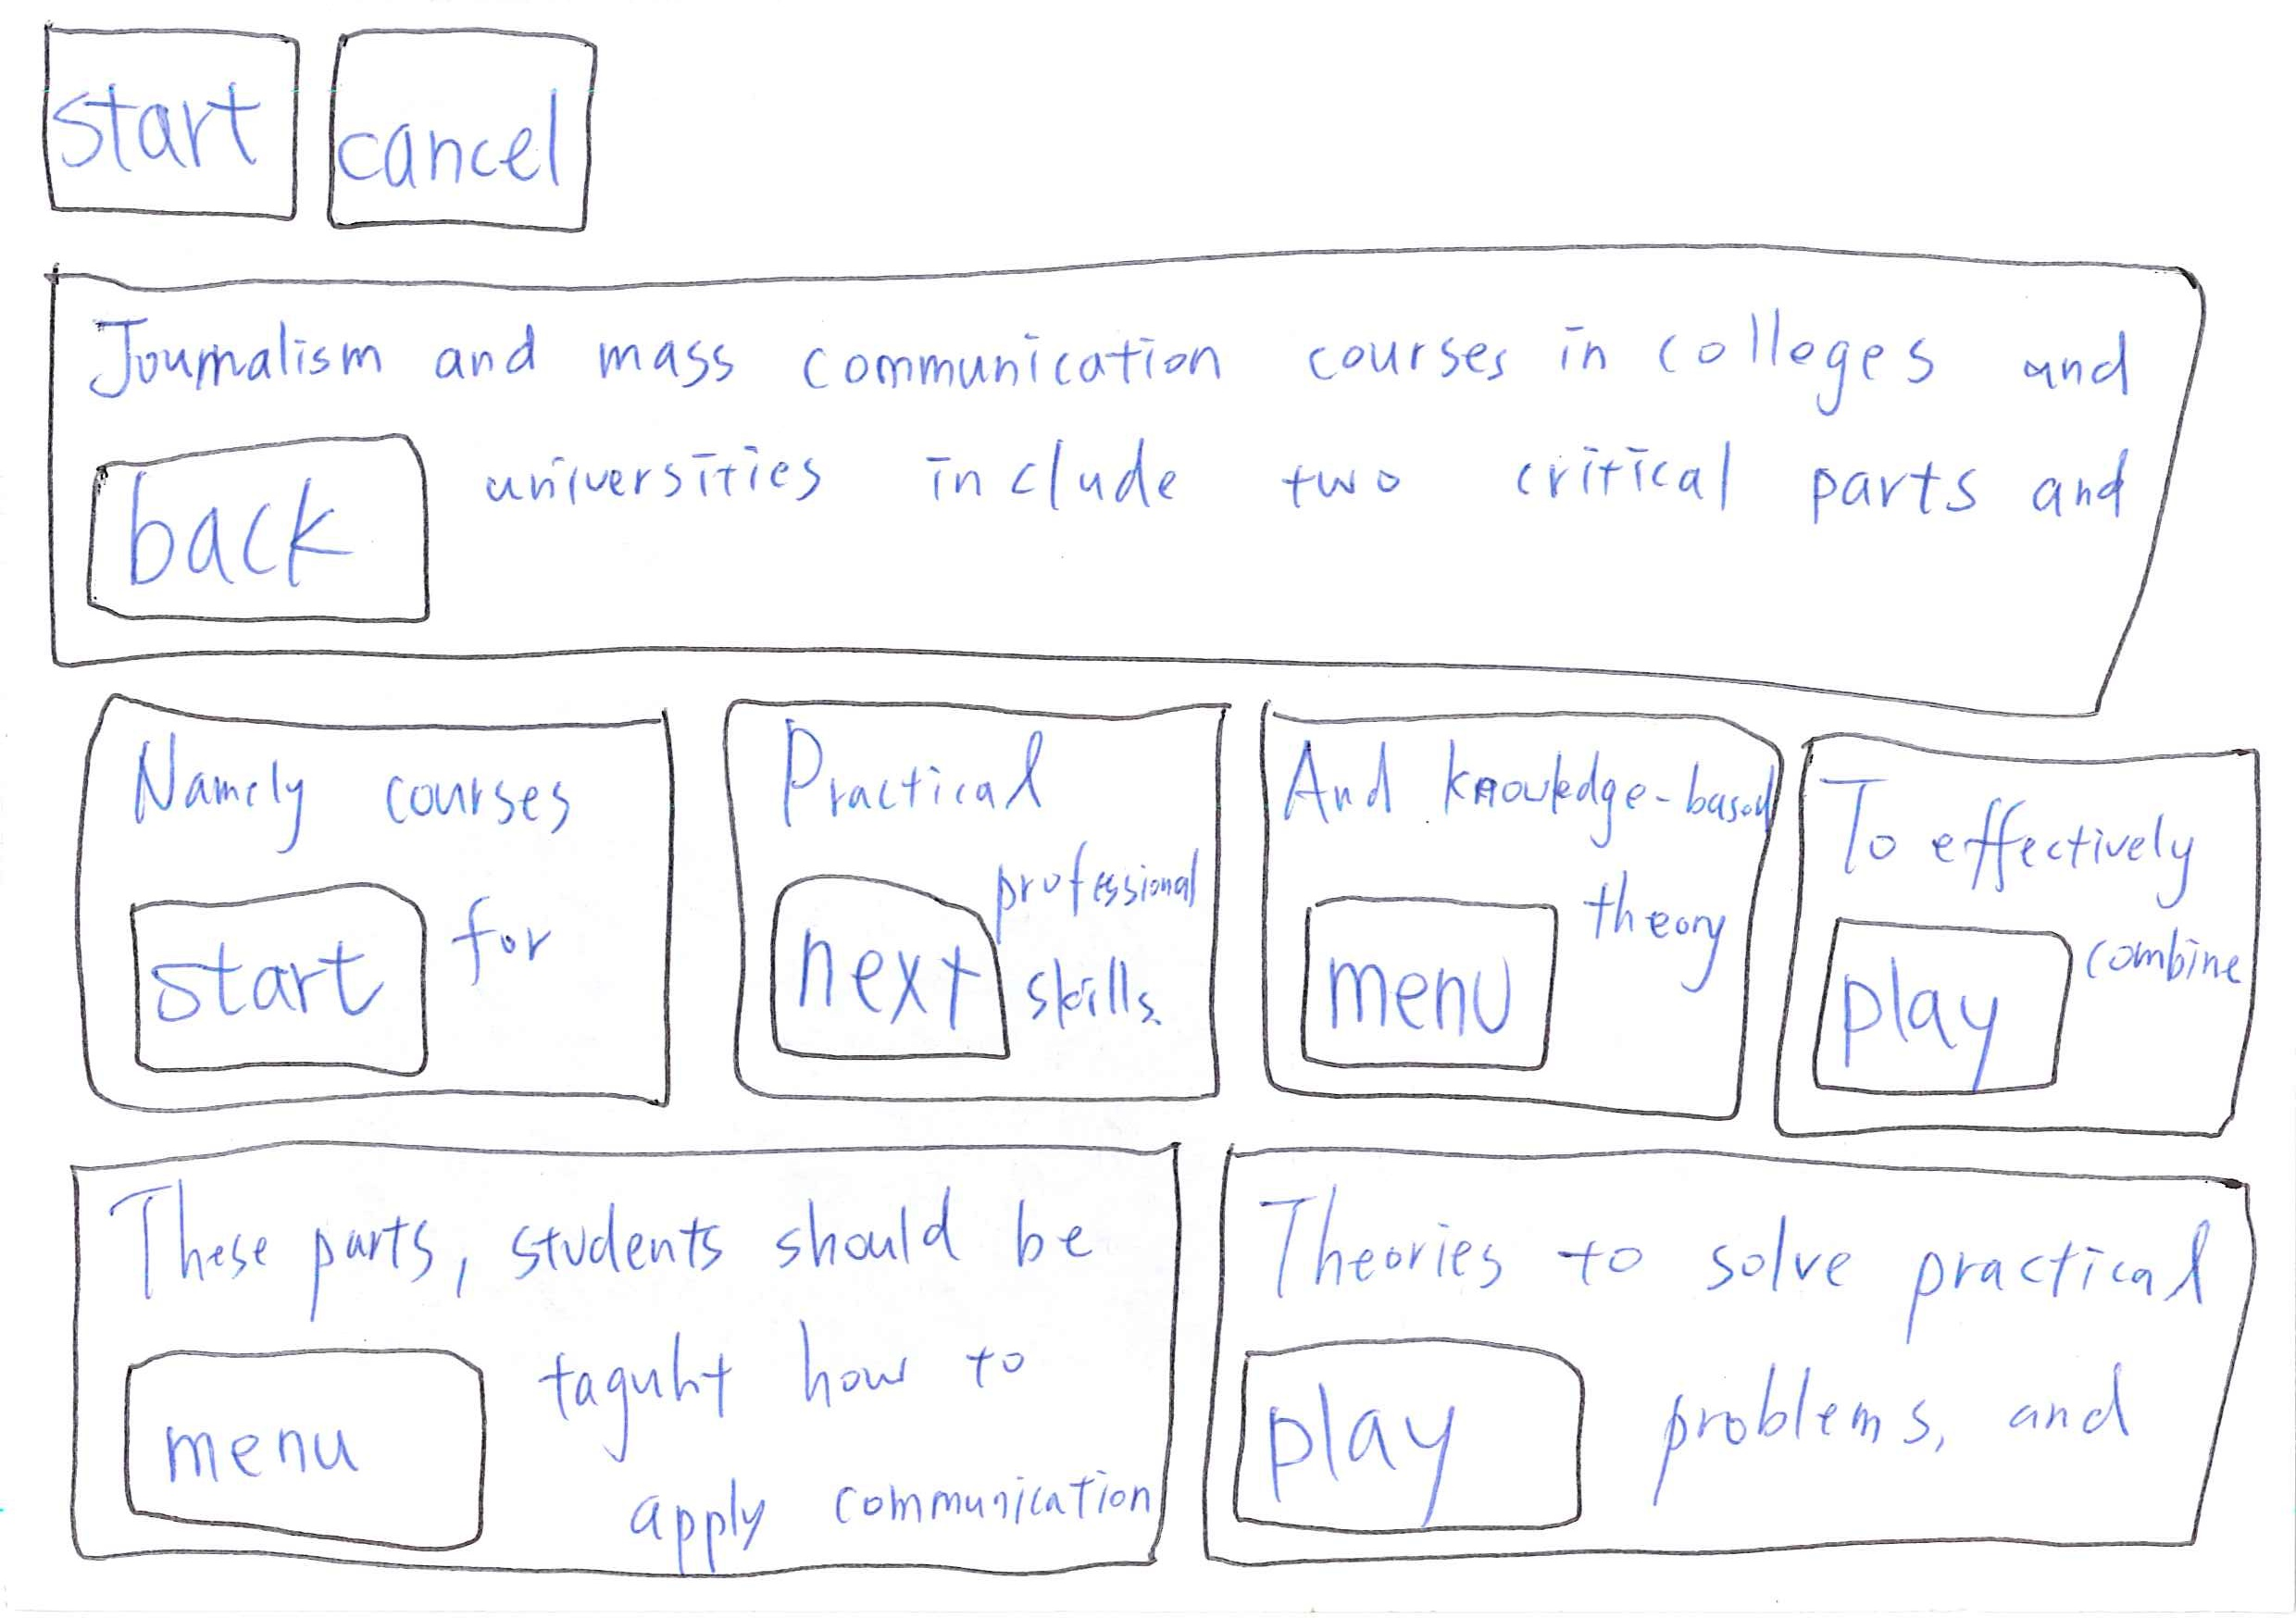back: (67, 426, 455, 651)
cancel: (317, 12, 618, 261)
double: (19, 1119, 1194, 1609), (1200, 1122, 2285, 1618)
menu: (89, 1327, 503, 1562), (1284, 876, 1592, 1093)
next: (753, 849, 1028, 1080)
play: (1208, 1331, 1620, 1555), (1786, 909, 2089, 1112)
quadruple: (33, 674, 708, 1119), (1243, 672, 1795, 1147), (687, 664, 1249, 1124), (1778, 692, 2296, 1164)
row: (9, 221, 2296, 756), (9, 1112, 2296, 1618), (9, 665, 2296, 1170), (14, 7, 2294, 247)
single: (14, 240, 2236, 734)
small-title: (63, 287, 2156, 420), (1266, 1178, 2214, 1324), (147, 1178, 1103, 1301), (1289, 734, 1765, 858), (107, 742, 590, 856), (1844, 770, 2214, 898), (778, 707, 1109, 830)
start: (107, 874, 448, 1086), (16, 7, 315, 236)
text: (482, 413, 2140, 557), (557, 1291, 1151, 1537), (1636, 1341, 2156, 1480), (1007, 835, 1191, 1031), (452, 876, 602, 1040), (1578, 853, 1725, 982), (2075, 909, 2212, 1021)
